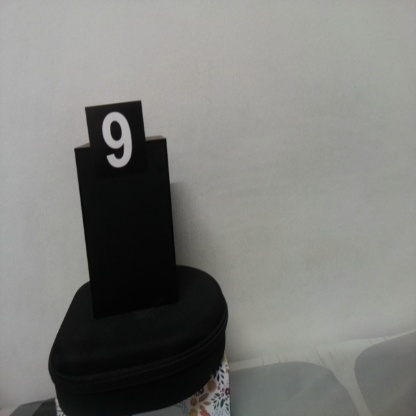id_9: (85, 106, 147, 187)
